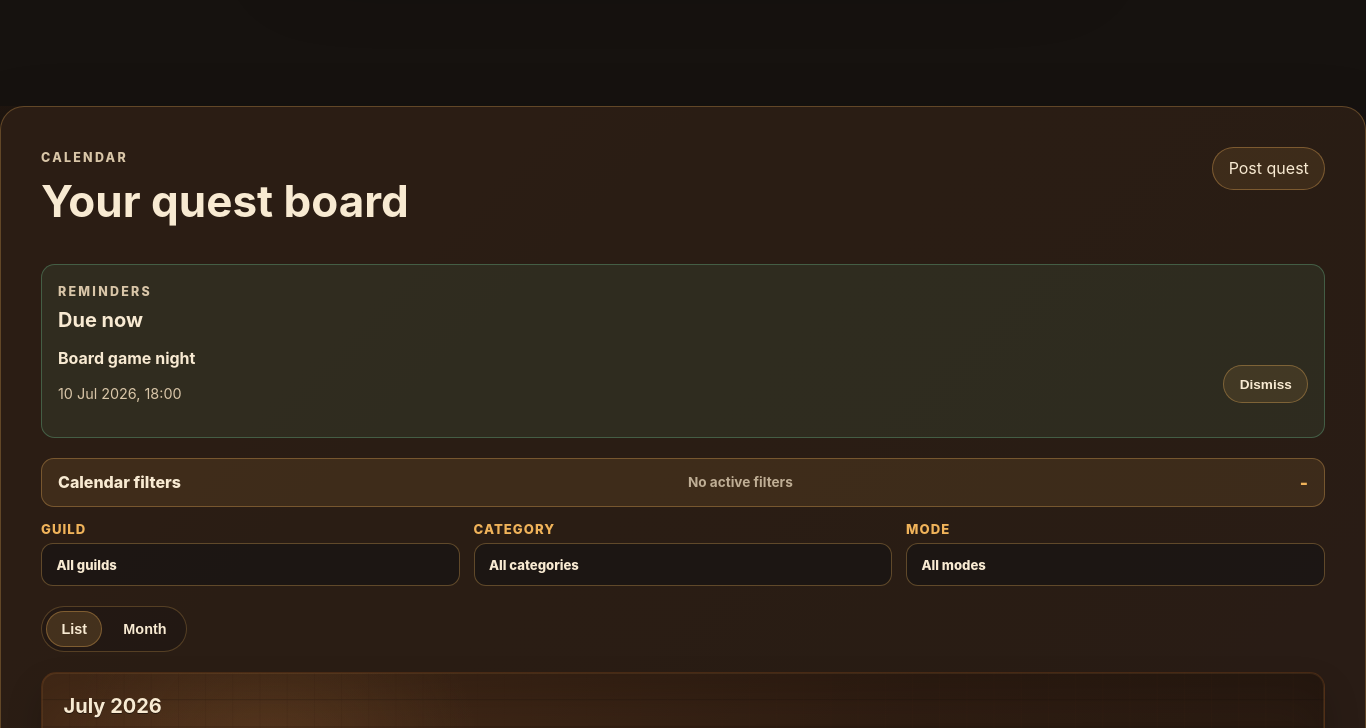
Test: CalendarPage › shows and dismisses due in-app reminders
(page scrolled)
Expected: the heading "Due now" is shown, [58,308,143,332]
Click the button "Dismiss" at (1266, 384), box [1224,365,1308,403]
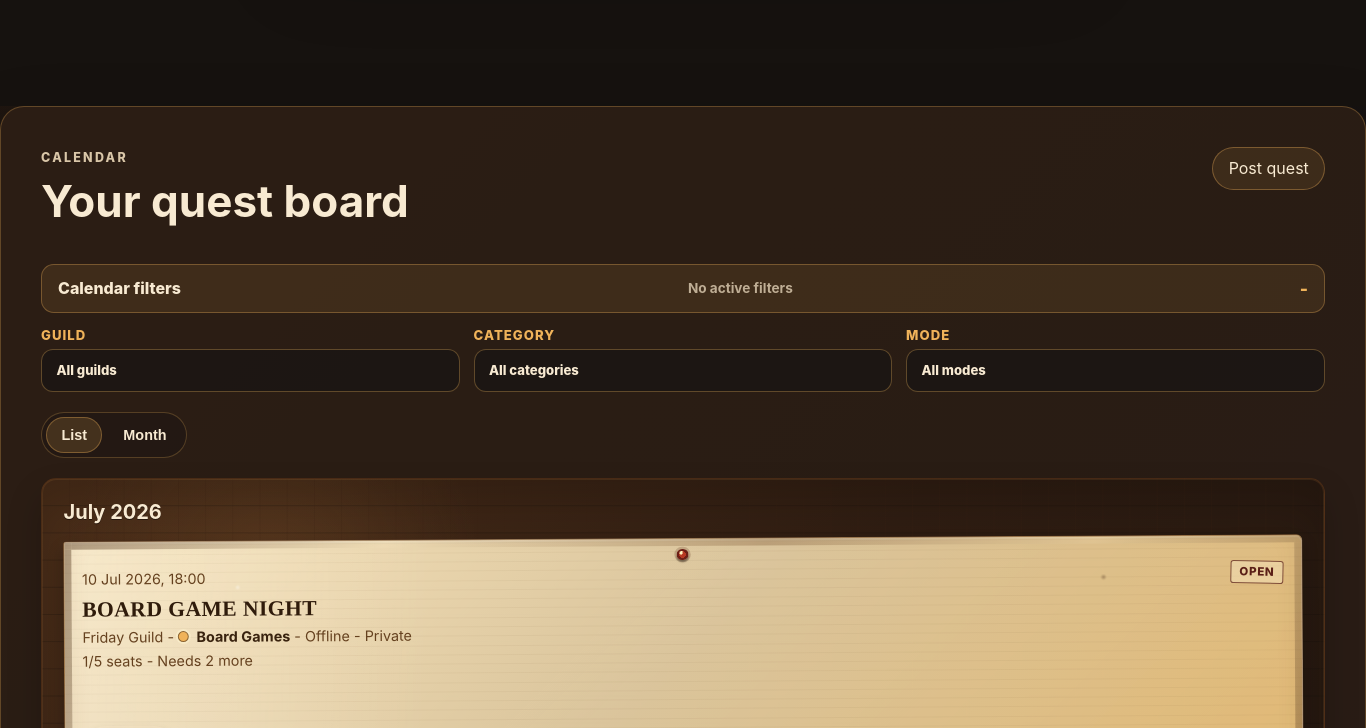
Now the heading "Due now" is gone
